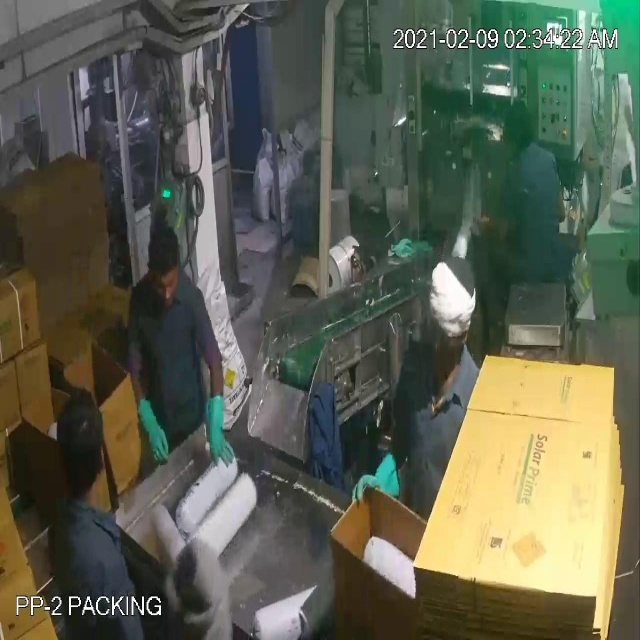Guantes: (193, 387, 238, 478), (131, 388, 174, 473), (350, 448, 408, 509)
Sin_guantes: (473, 197, 514, 250)
